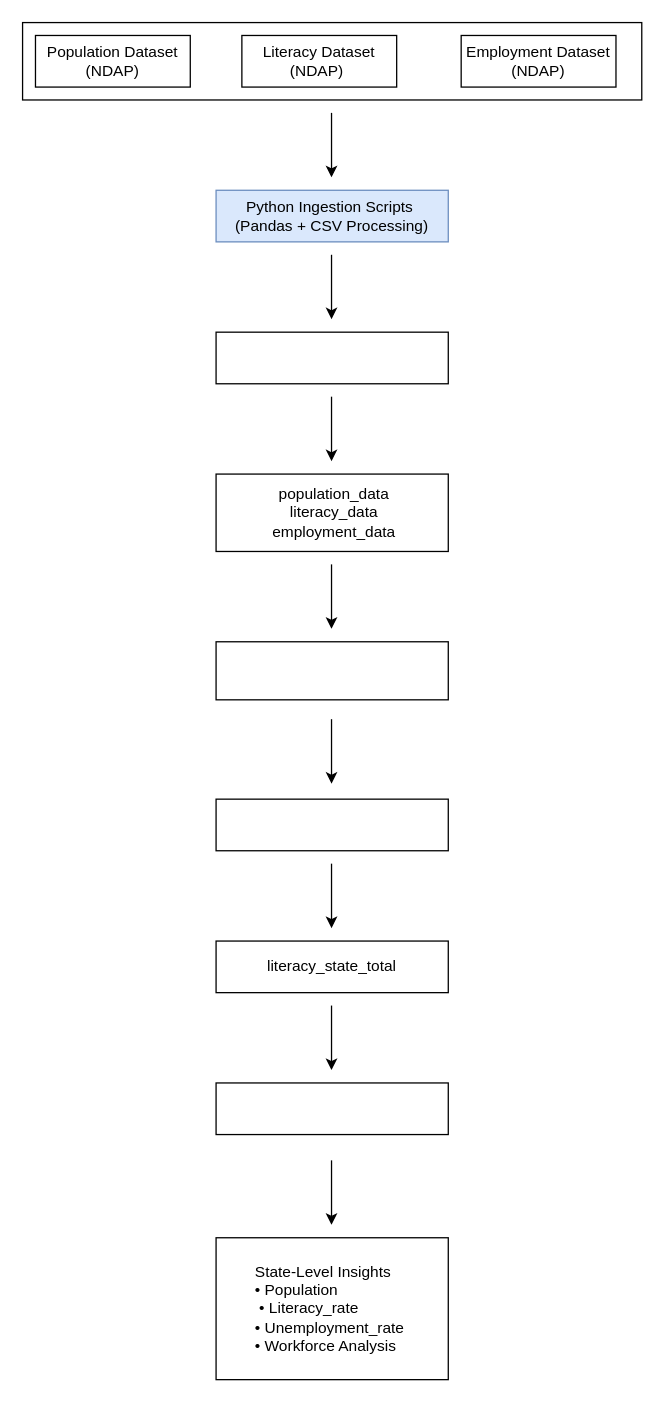
This 664x1402 diagram has some shape labels left out. Here are the shapes that lost their labels. From the top down, the centre of each, then its label:
point (331, 357): PostgreSQL Database (Data Warehouse)
point (331, 670): SQL Transformation Layer
point (331, 824): literacy_analysis
point (331, 1108): master_state_analysis
